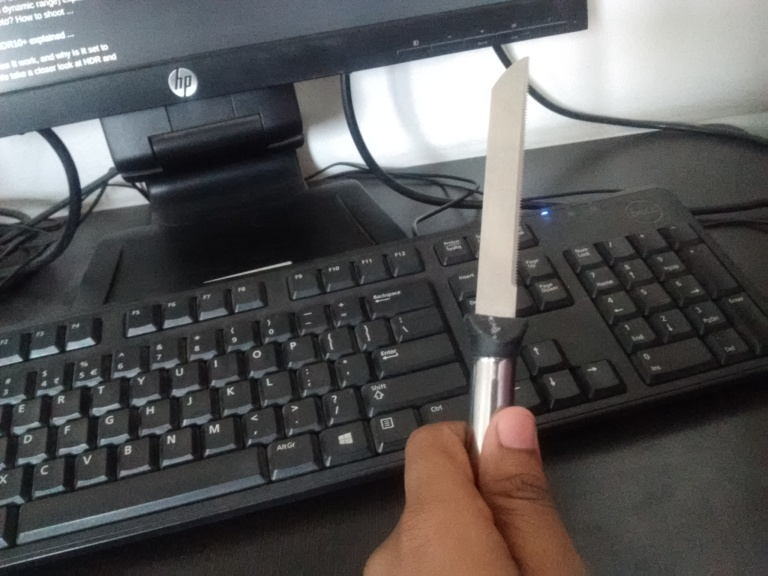knife: (460, 56, 530, 410)
